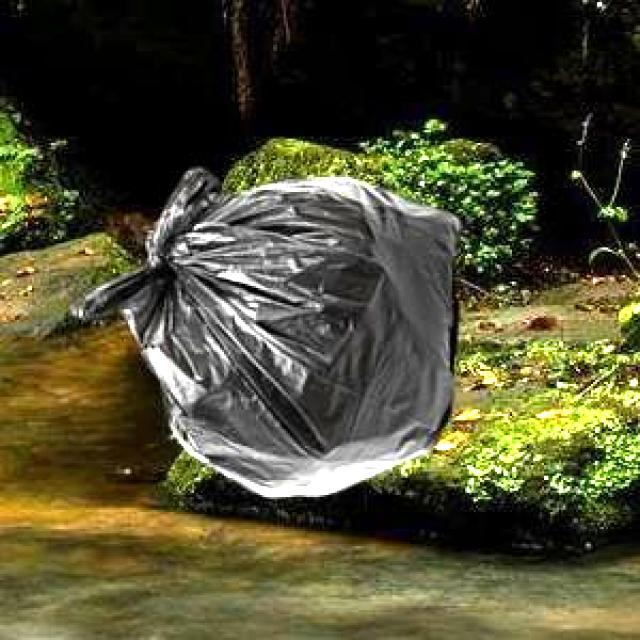Garbage_Bag: (67, 165, 460, 494)
